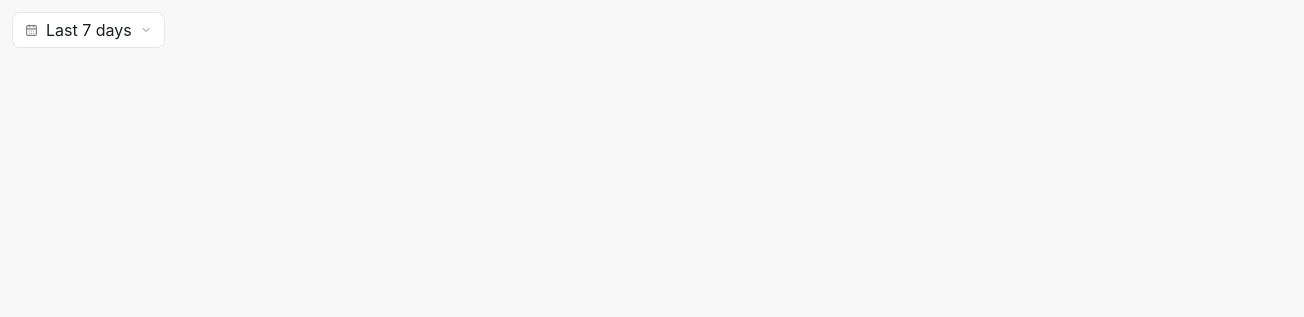
Test case: analytics date filters › holds a valid custom date interval as a draft until Apply range
Later steps or results of the test are not shown.
Click the button "Last 7 days". click: (88, 30)
box: [12, 12, 165, 48]
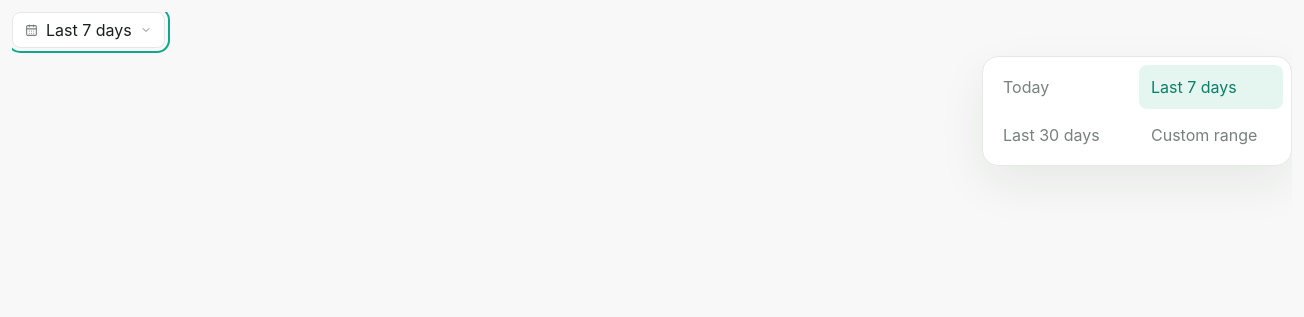
Click the button "Custom range". click: (1211, 135)
box: [1139, 113, 1283, 157]
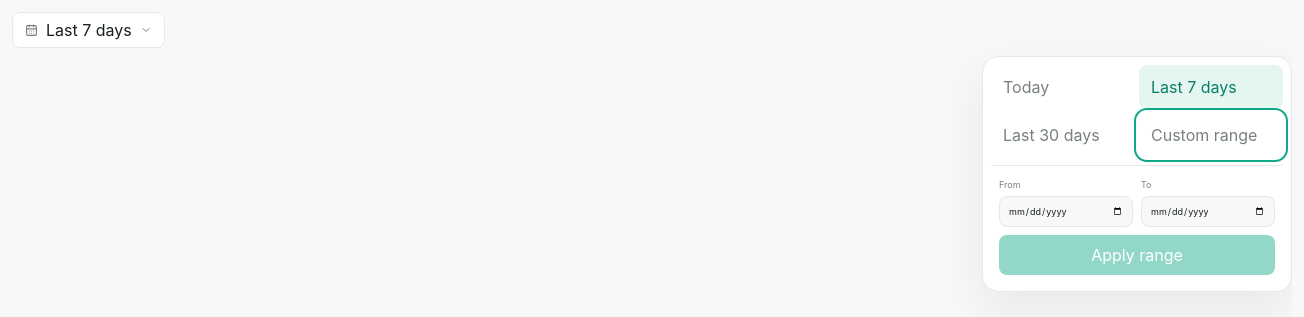
Type "2026-04-02" into the date field labelled "From". click: (1066, 211)
box: [999, 196, 1133, 227]
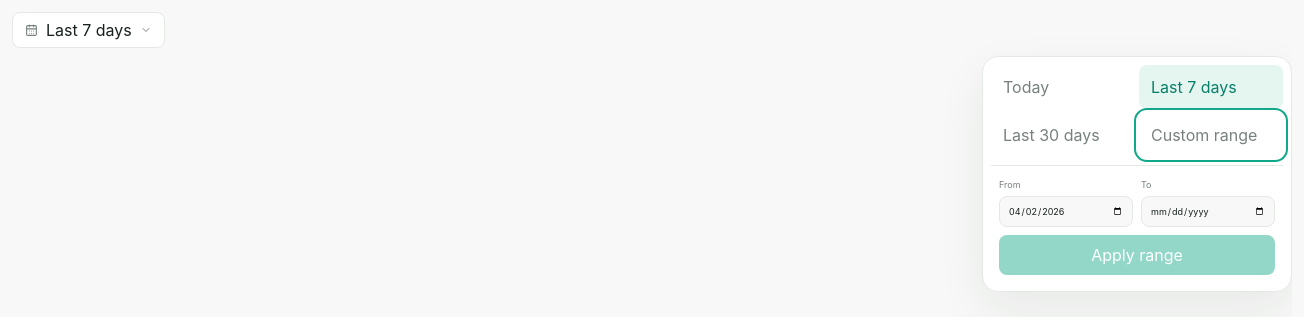
Type "2026-04-05" into the date field labelled "To". click: (1208, 211)
box: [1141, 196, 1275, 227]
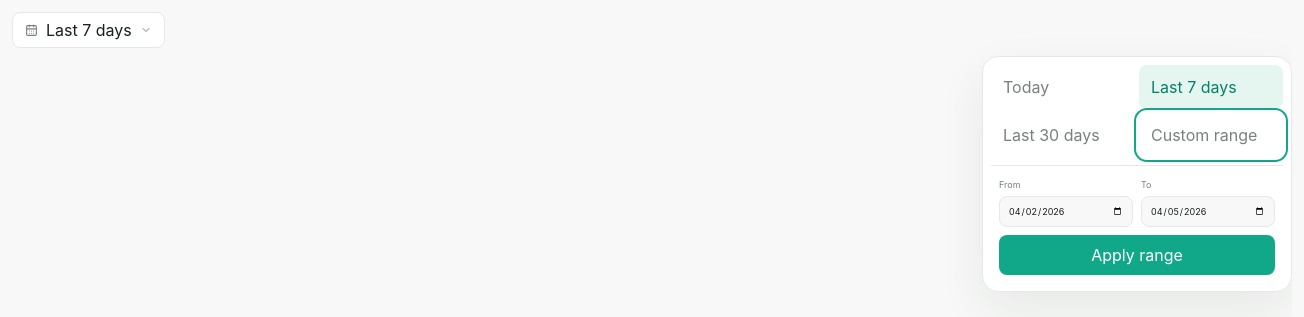
Expected: the button "Apply range" is enabled, [999, 235, 1275, 275]
